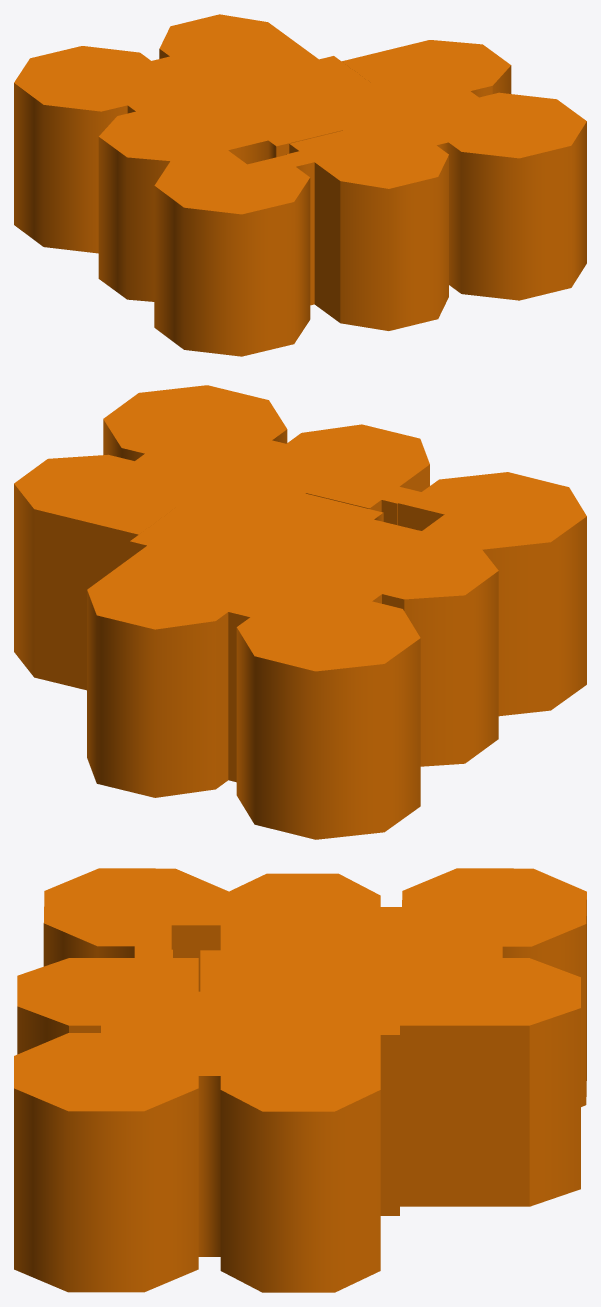
3 renders of one model, top to bottom at view 1: azimuth 30°, elevation 25°; view 2: azimuth 150°, elevation 25°; view 3: azimuth 270°, elevation 25°, orthographic. The views are drawn at different scales.
Visible parts, largest first — view 1: Box001; view 2: Box001; view 3: Box001.
Boxes of the visible parts, box(x1,y1,x2,y2) form: Box001: box(14, 14, 586, 356); Box001: box(14, 385, 586, 839); Box001: box(14, 868, 586, 1292).
Size of the model in its own units: 113 by 39.37 by 113.
